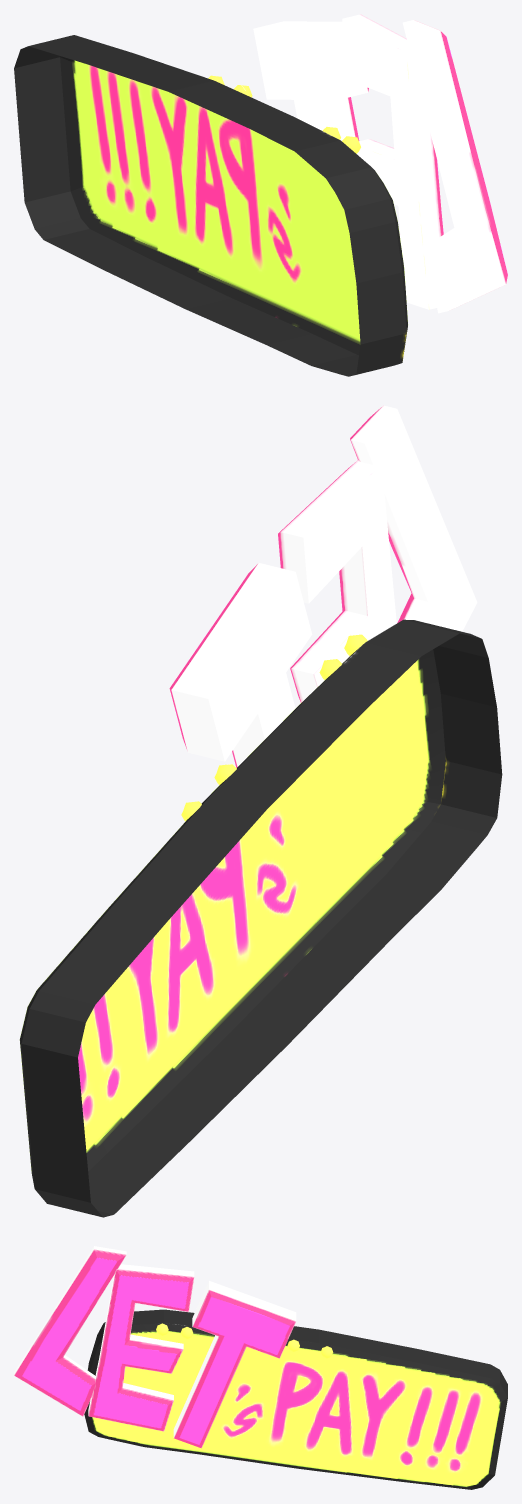
File: Let's pay.glb
3 renders of one model, top to bottom at view 1: azimuth 30°, elevation 25°; view 2: azimuth 150°, elevation 25°; view 3: azimuth 270°, elevation 25°, orthographic. The views are drawn at different scales.
Visible parts, largest first — view 1: pCube2, pCube3, pCube4, pCube10, pCube25; view 2: pCube2, pCube10, pCube4, pCube3, pCube25; view 3: pCube2, pCube4, pCube10, pCube3, pCube25.
Part boxes in pixels (left/top/right/bottom): pCube2: left=14, top=35, right=408, bottom=376; pCube3: left=402, top=20, right=507, bottom=313; pCube4: left=342, top=14, right=443, bottom=309; pCube10: left=253, top=21, right=368, bottom=140; pCube25: left=208, top=75, right=360, bottom=153; pCube2: left=19, top=619, right=502, bottom=1217; pCube10: left=169, top=563, right=312, bottom=767; pCube4: left=278, top=460, right=396, bottom=702; pCube3: left=350, top=405, right=477, bottom=631; pCube25: left=181, top=634, right=367, bottom=821; pCube2: left=84, top=1309, right=507, bottom=1489; pCube4: left=88, top=1264, right=194, bottom=1431; pCube10: left=173, top=1280, right=296, bottom=1448; pCube3: left=14, top=1246, right=126, bottom=1416; pCube25: left=156, top=1323, right=333, bottom=1358.
Size of the model in its own units: 0.5108 by 1.96 by 3.47.
Materials: 5 (5 with a texture image).
